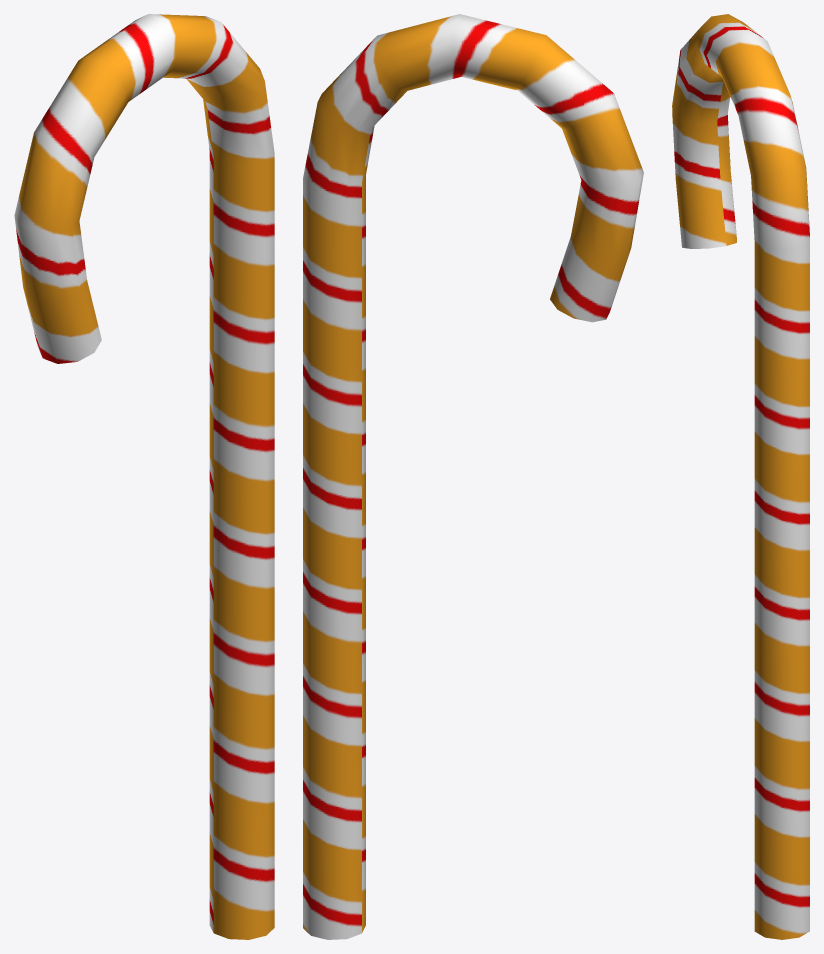
File: candycane orange strippes.fbx
The picture shows the model from 3 angles, left to right: view 1: azimuth 30°, elevation 25°; view 2: azimuth 150°, elevation 25°; view 3: azimuth 270°, elevation 25°; orthographic projection. The views are drawn at different scales.
Parts seen in each view (by area): view 1: candycane_orange_strippes; view 2: candycane_orange_strippes; view 3: candycane_orange_strippes.
Boxes of the visible parts, <box> form: candycane_orange_strippes: <box>14,14,274,939</box>; candycane_orange_strippes: <box>303,14,643,939</box>; candycane_orange_strippes: <box>672,14,809,939</box>.
Size of the model in its own units: 4.96 by 15.13 by 2.23.
Materials: 1 (1 with a texture image).
